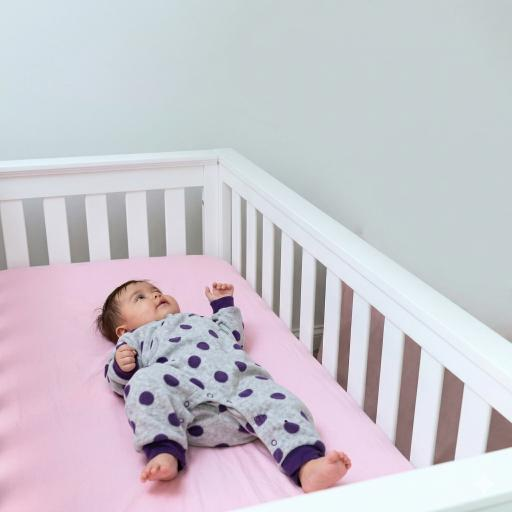baby: (97, 281, 350, 492)
crib: (0, 149, 511, 511)
